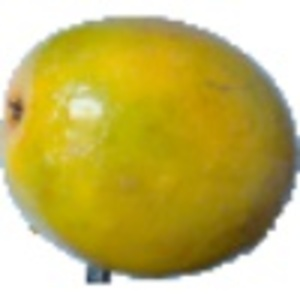maracujá: (1, 14, 300, 287)
